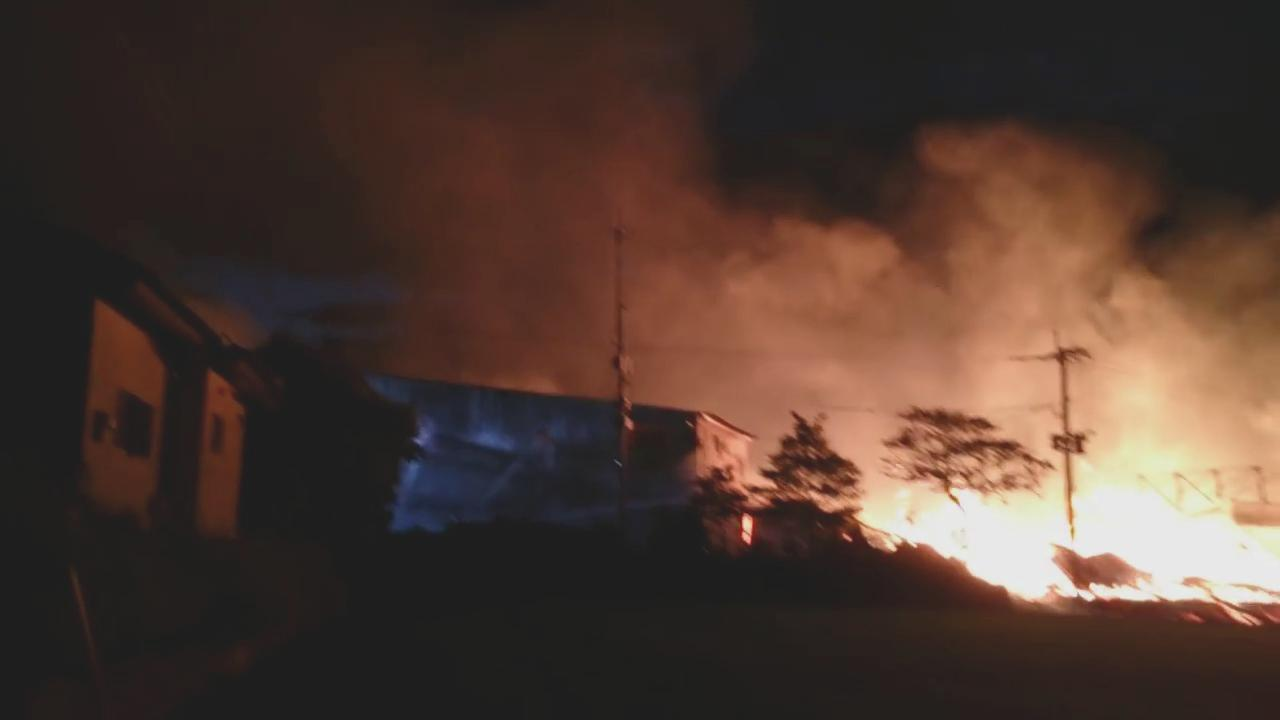Fire: (863, 479, 1275, 606)
